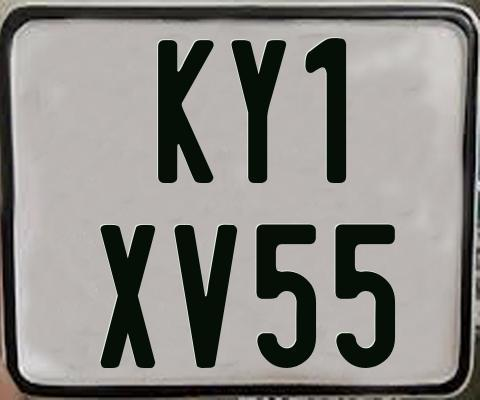1: (305, 38, 352, 187)
5: (334, 223, 397, 368), (253, 223, 314, 367)
K: (158, 37, 217, 185)
V: (172, 225, 239, 369)
X: (100, 225, 155, 373)
Y: (231, 39, 291, 183)
